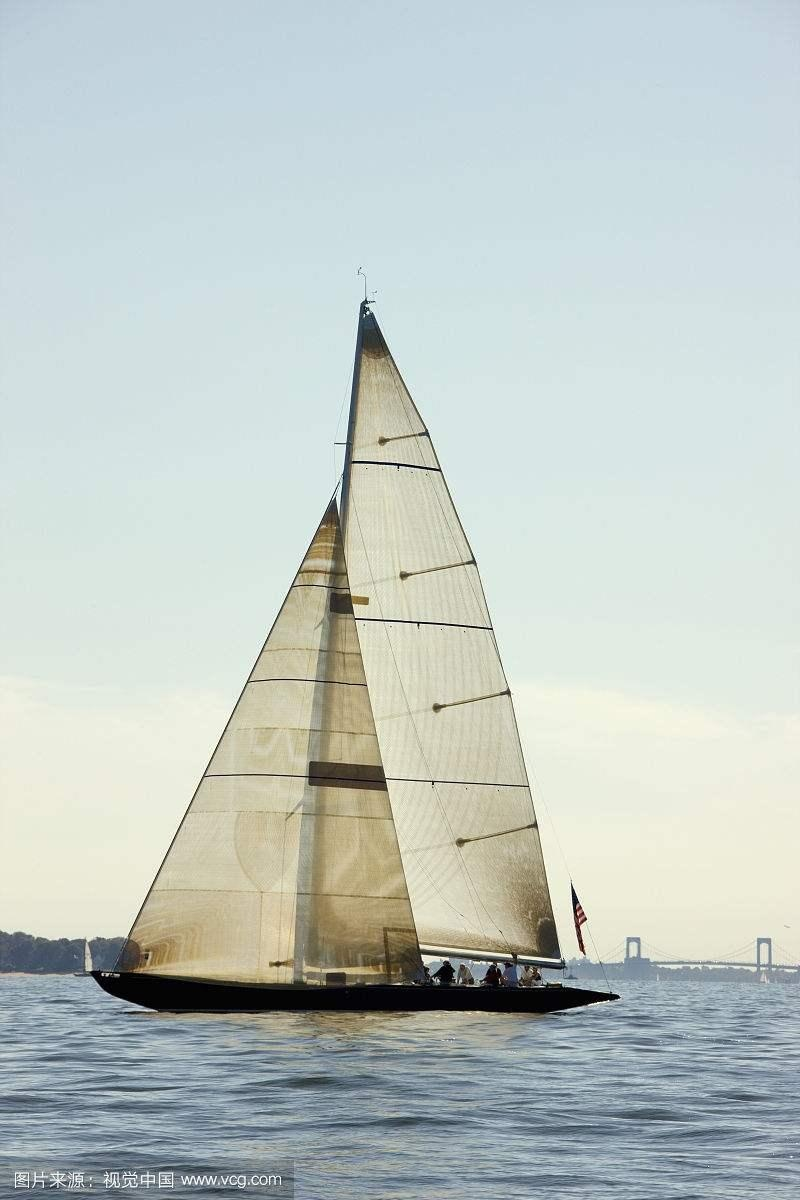fanchuan: (86, 292, 620, 1020)
